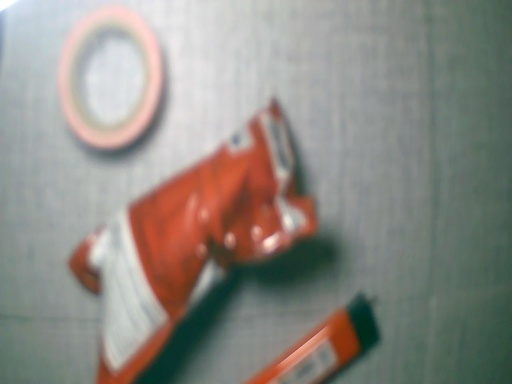plastic: (70, 103, 317, 384)
trash: (55, 5, 167, 150), (246, 294, 383, 384)
